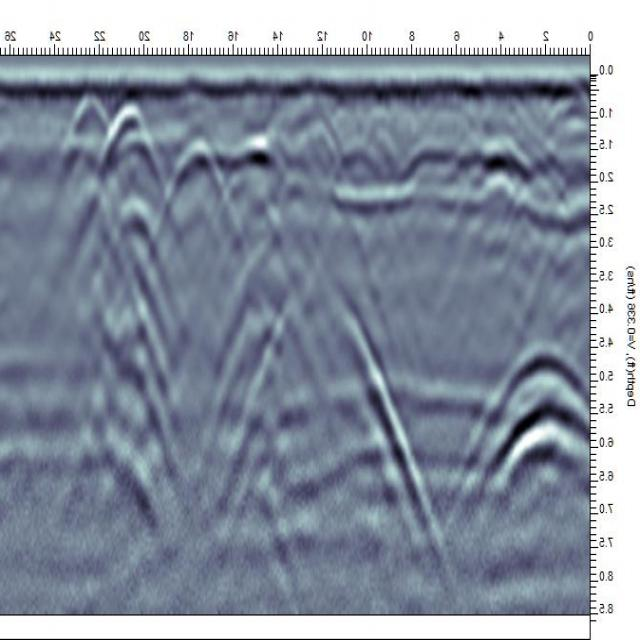hyperbola: (473, 338, 589, 501), (88, 104, 172, 204)
